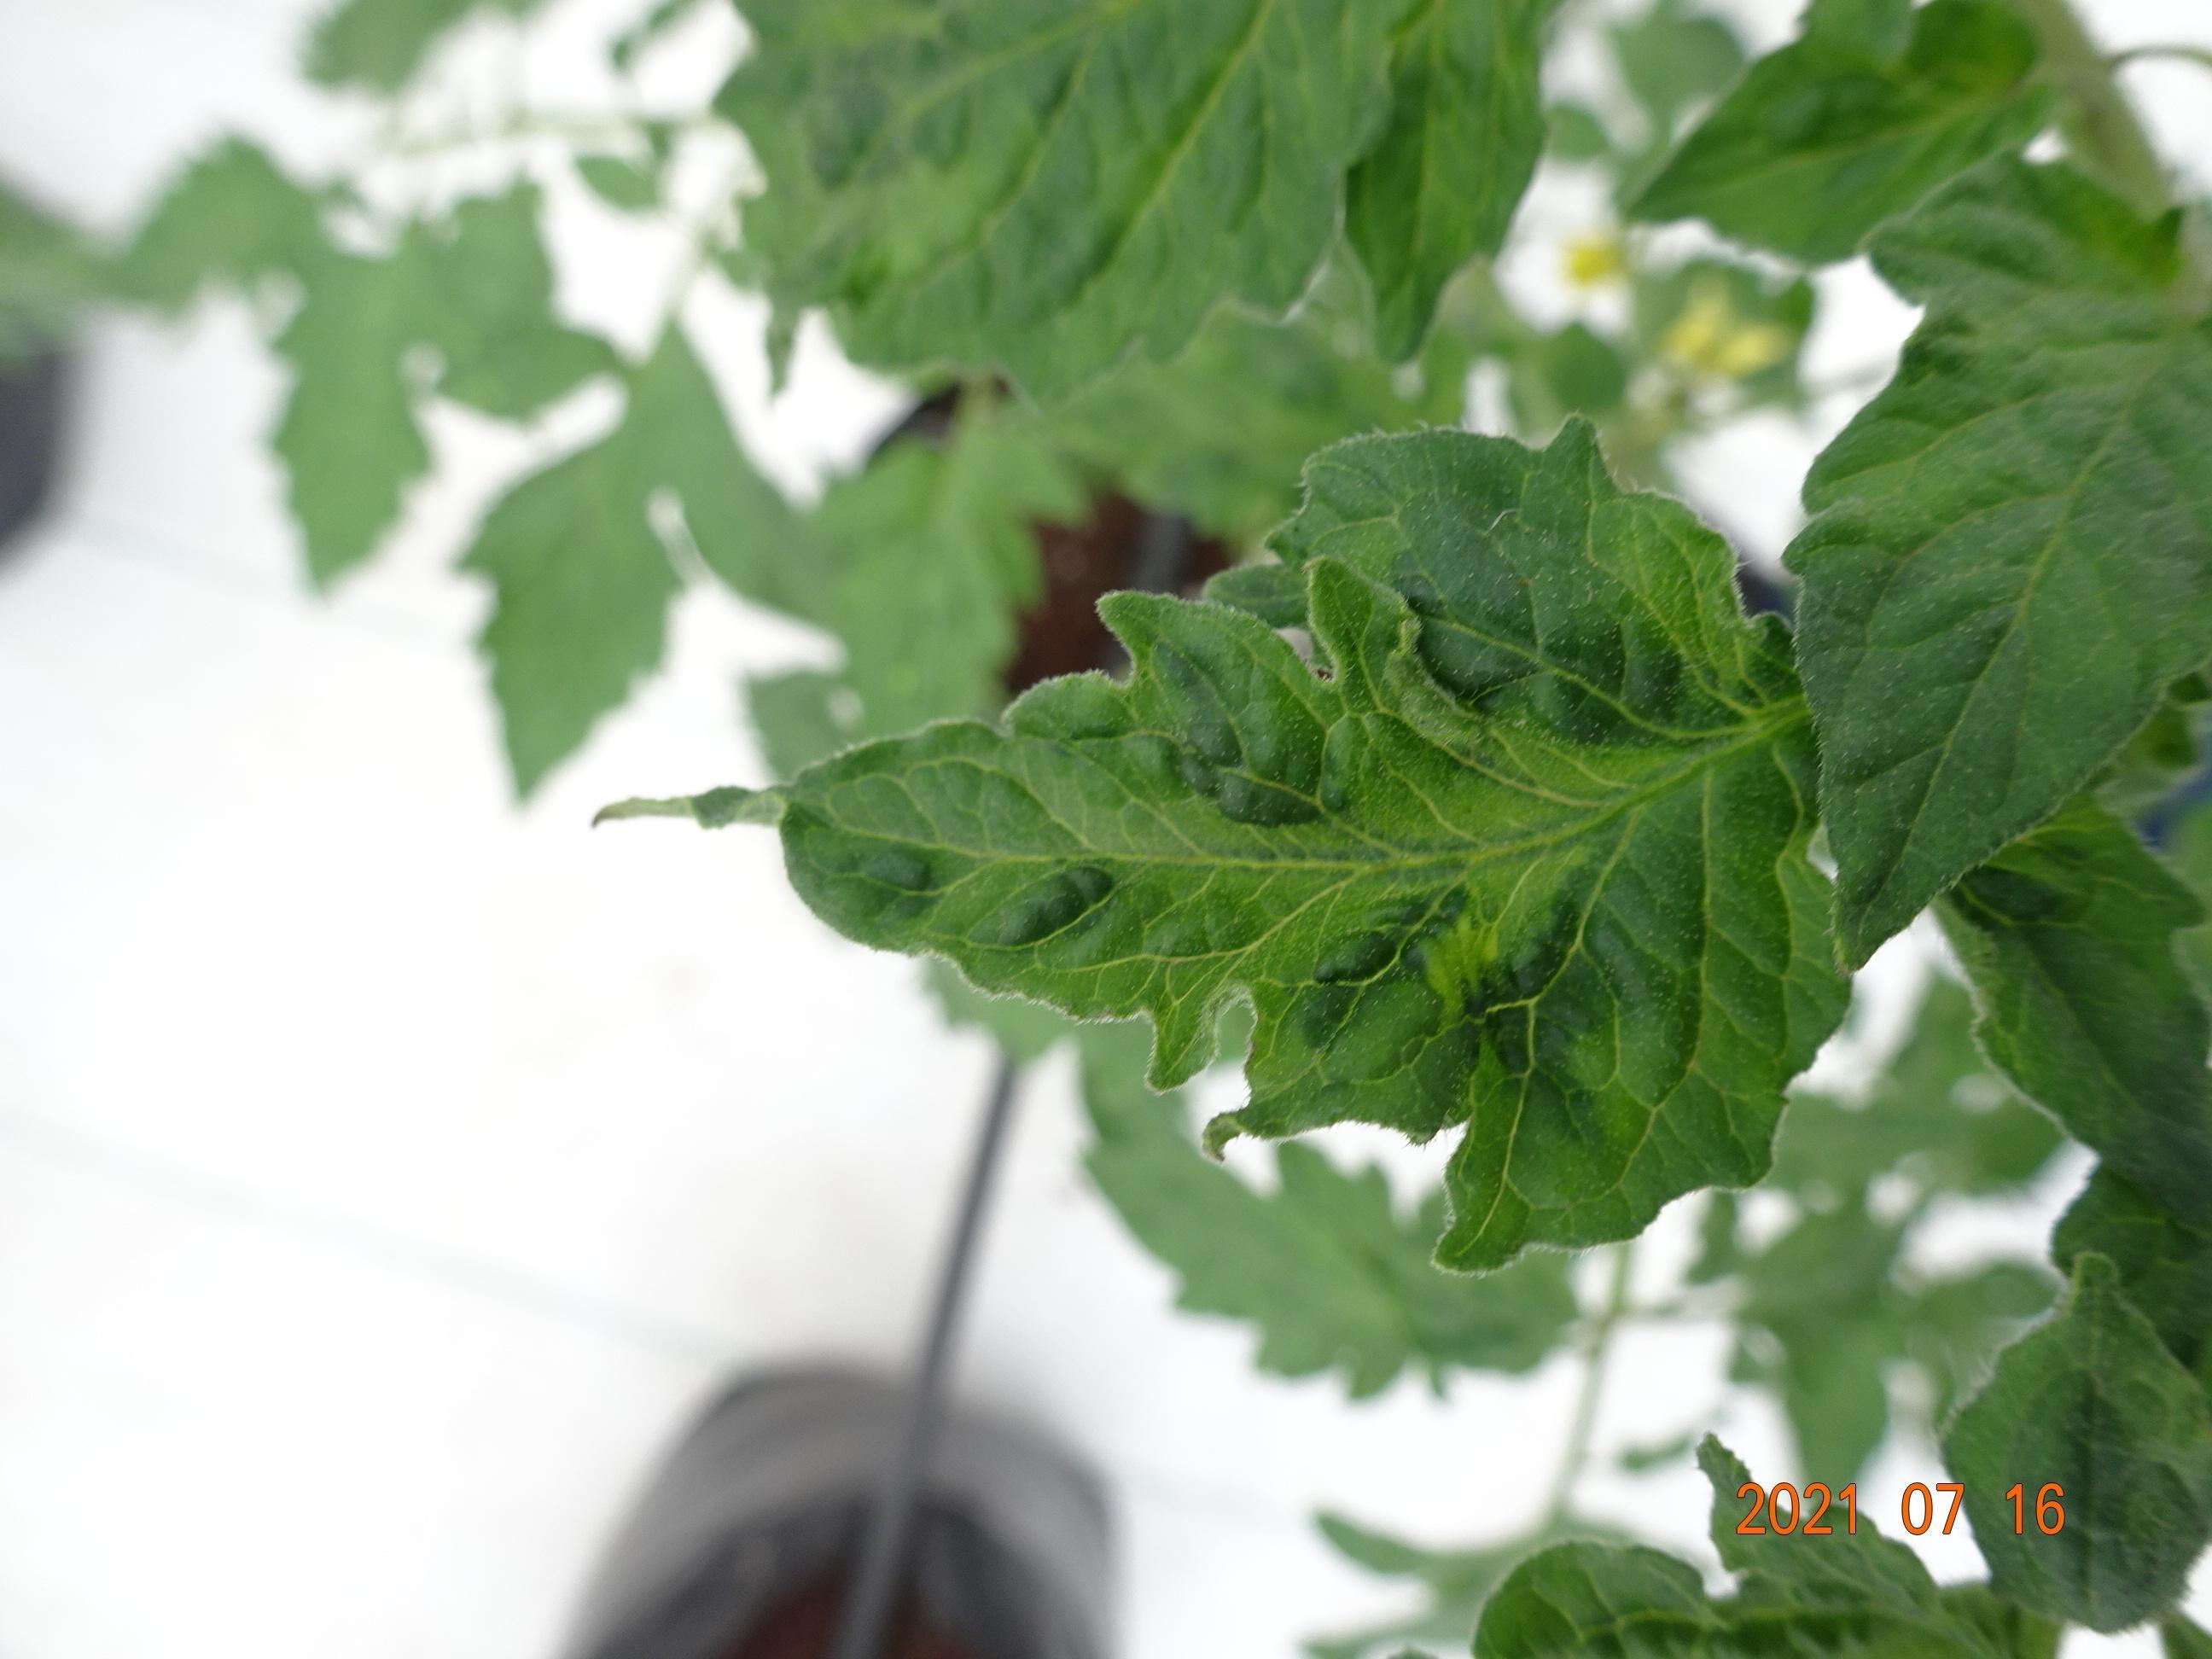Rugose leaf: (779, 420, 1850, 1270)
